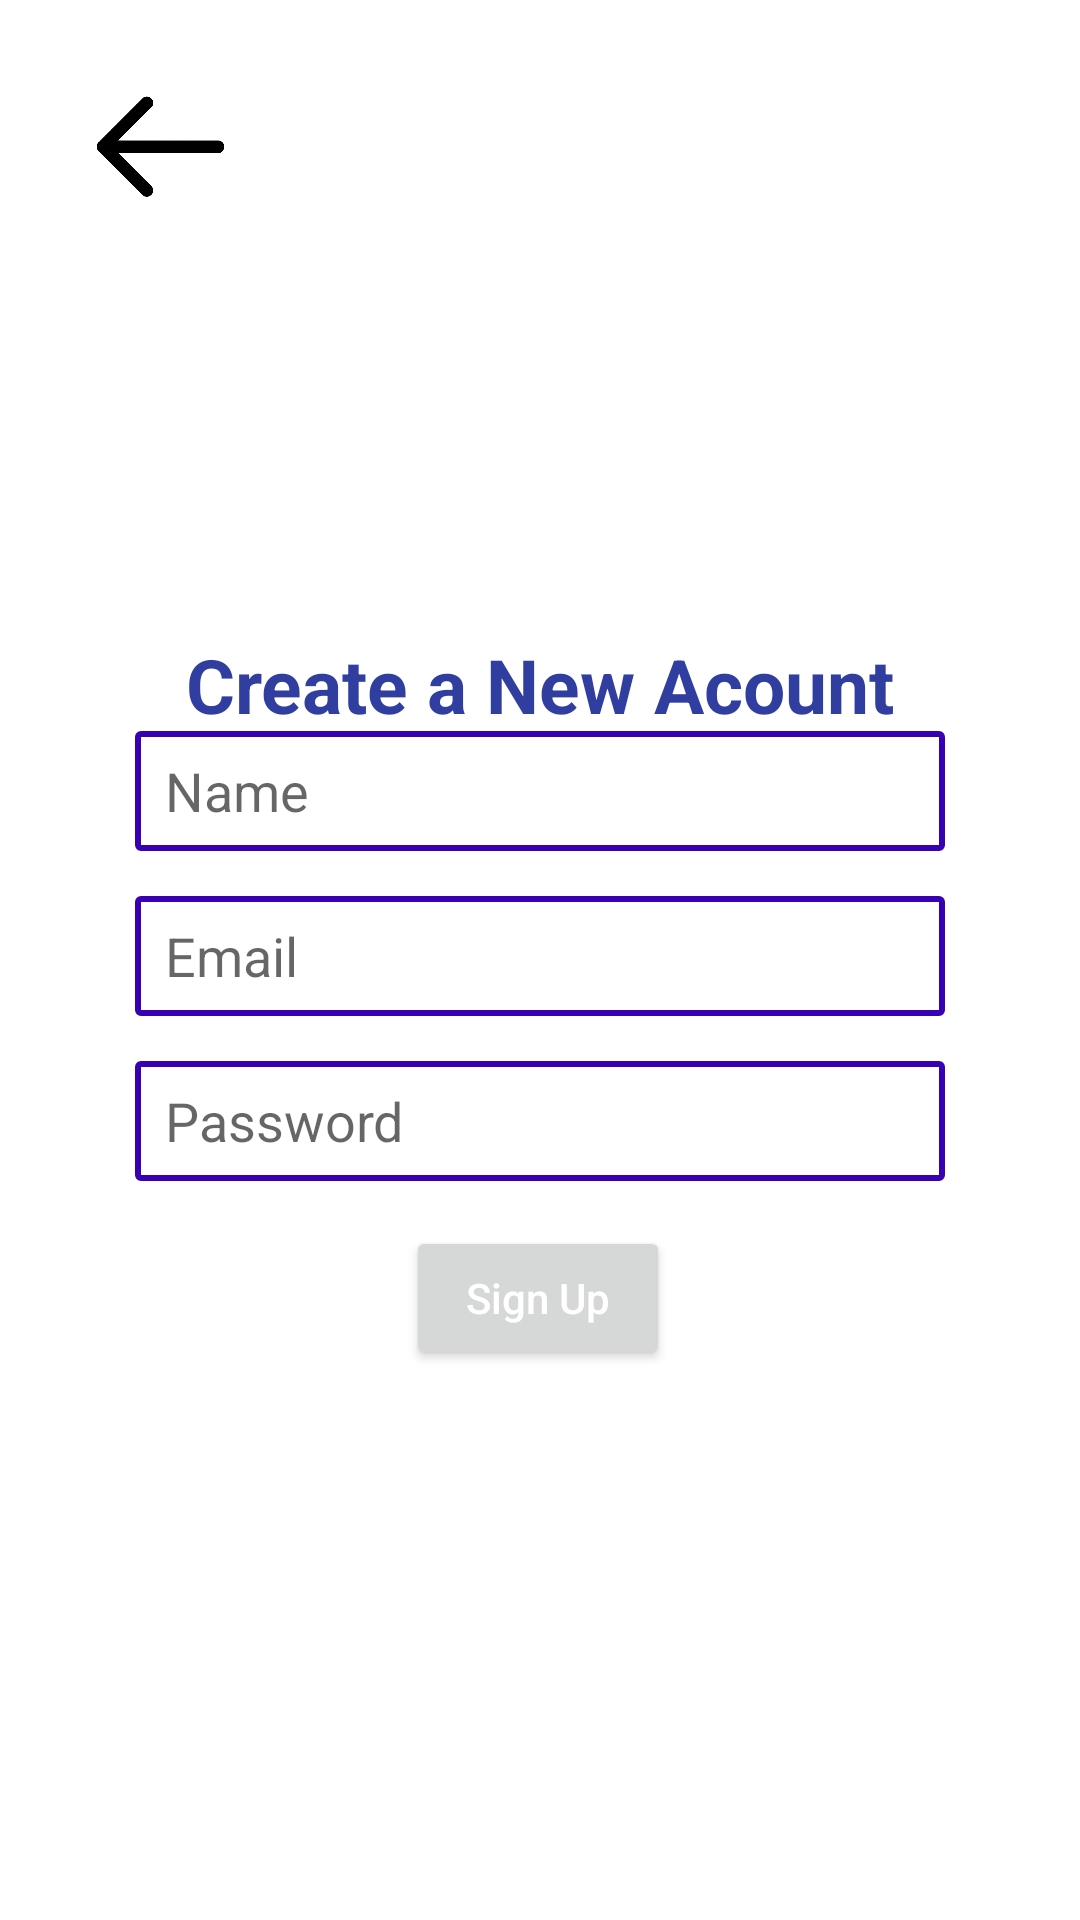

Where icons sit on this 1080w x 1920h app screen, as (x1,y1,x2,y2):
back arrow: (97,96,224,197)
